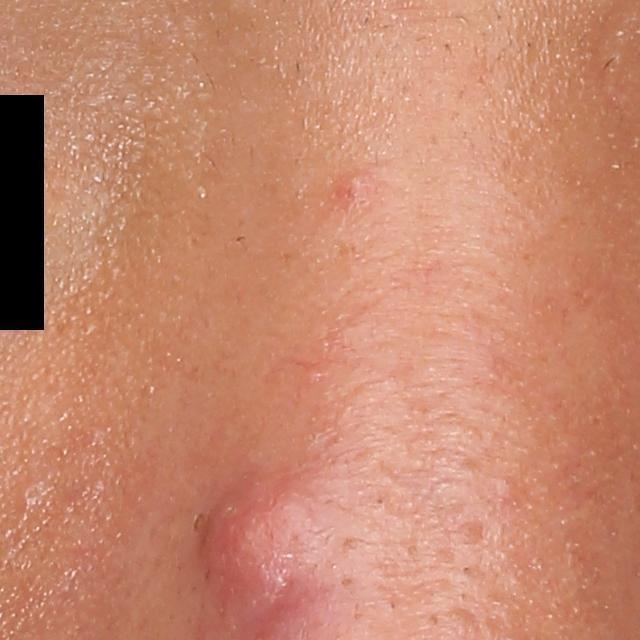nodule: (188, 469, 330, 630)
papule: (341, 169, 369, 199)
